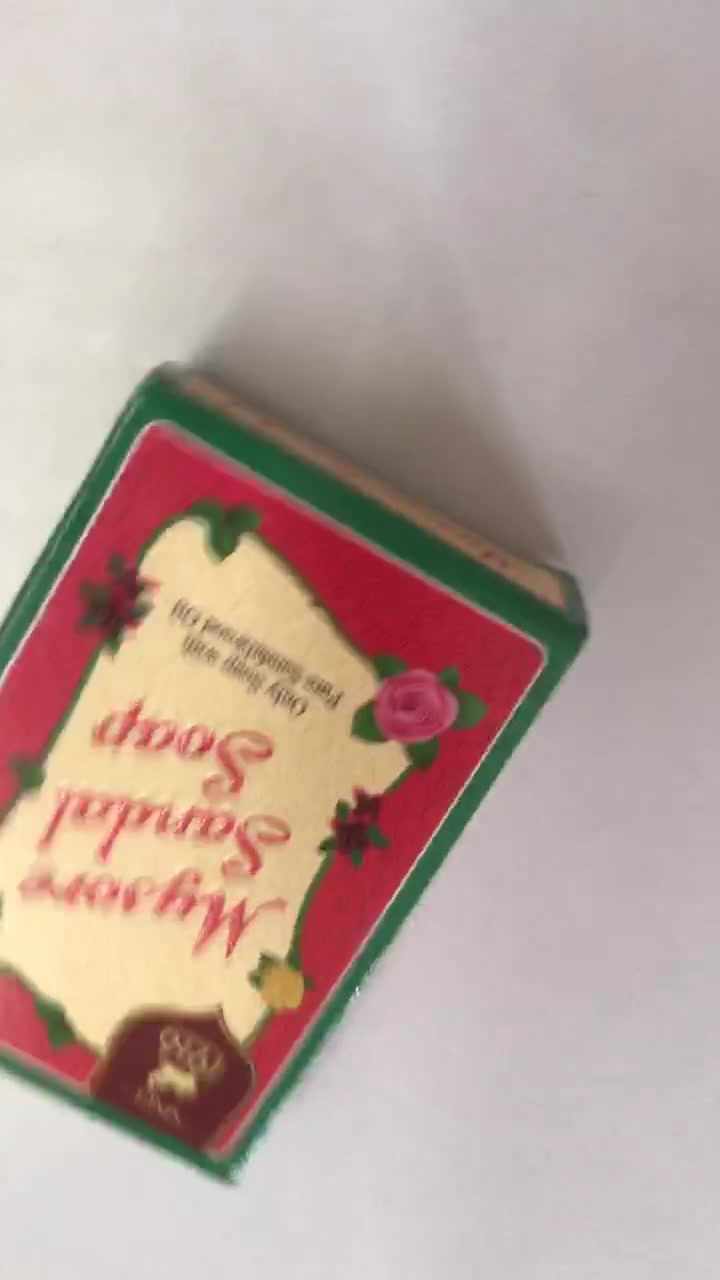mysore sandal soap: (10, 352, 581, 1189)
